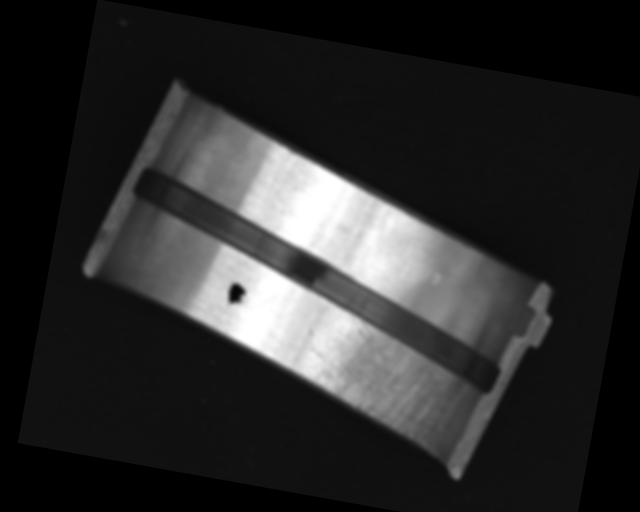blot: (223, 280, 250, 311)
bruise: (430, 272, 441, 287)
gap: (106, 165, 522, 394)
nick: (250, 174, 272, 223)
scratch: (293, 304, 463, 451)
